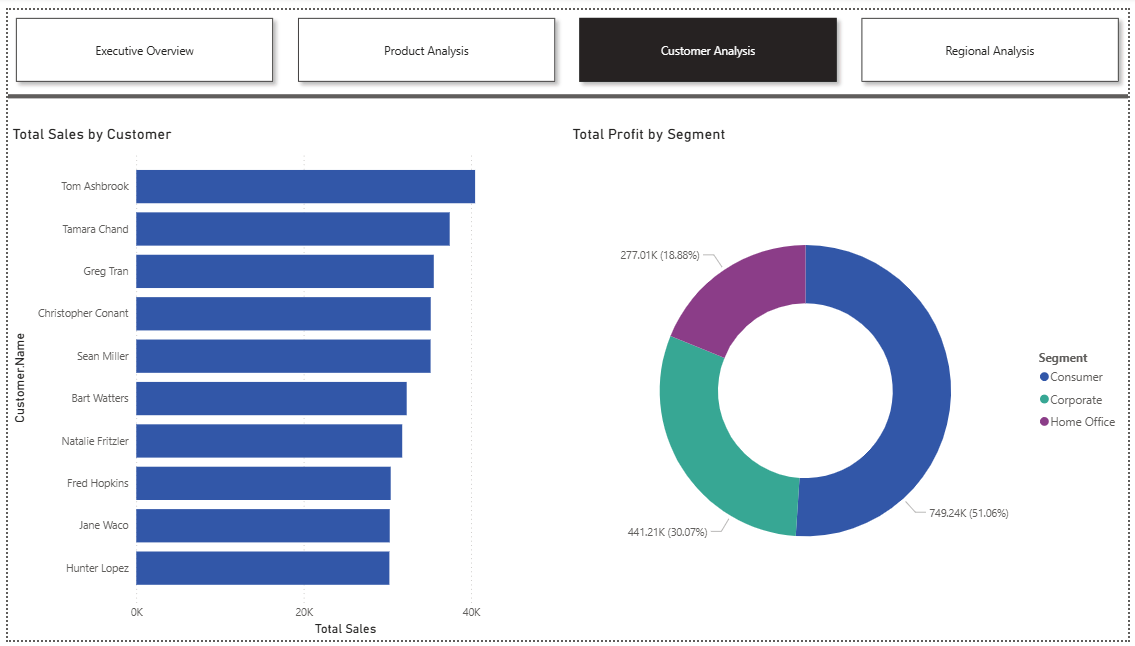

The dashboard page shown, as its layout file describes it:
{"tool":"powerbi","page":{"name":"Customer Analysis","canvas":[1280,720],"ordinal":2},"visuals":[{"type":"donutChart","fields":{"Category":["superstore.Segment"],"Y":["superstore.Total Profit"]},"box":[640,131.4,640,588.6],"z":0},{"type":"barChart","title":"Total Sales by Customer","fields":{"Category":["superstore.Customer.Name"],"Y":["superstore.Total Sales"]},"box":[0,131.4,640,588.6],"z":1000},{"type":"pageNavigator","box":[0,0,1280,91.7],"z":2001},{"type":"textbox","box":[0,91.7,1280,40],"z":2002}]}

Visuals, with their boxes in screenshot pixels (x1, y1, x2, y2), scaled from the page's 1280x720 canvas onto the 1135x646 screenshot:
donutChart - superstore.Segment x superstore.Total Profit: Rect(568, 118, 1134, 645)
"Total Sales by Customer" barChart: Rect(0, 118, 568, 645)
pageNavigator: Rect(0, 0, 1134, 82)
textbox: Rect(0, 82, 1134, 118)
